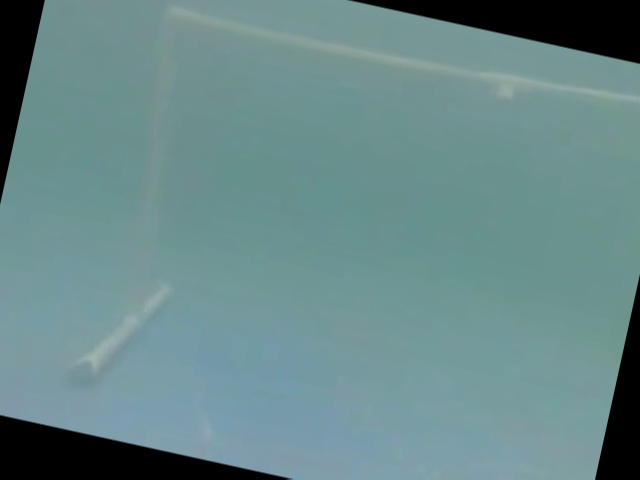gate: (43, 3, 633, 399)
